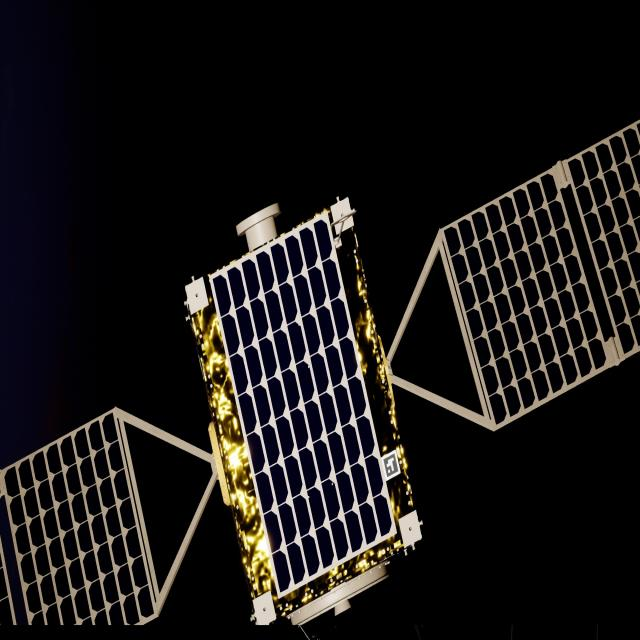medium_debris: (0, 119, 640, 631)
